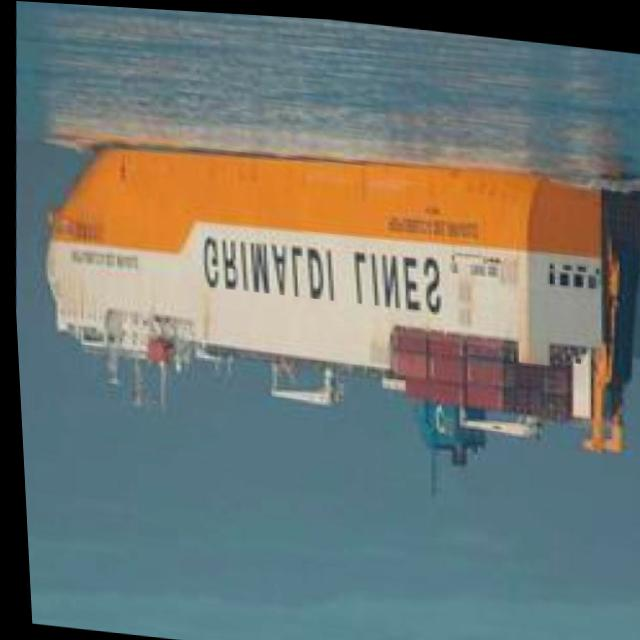ship2: (41, 145, 640, 491)
